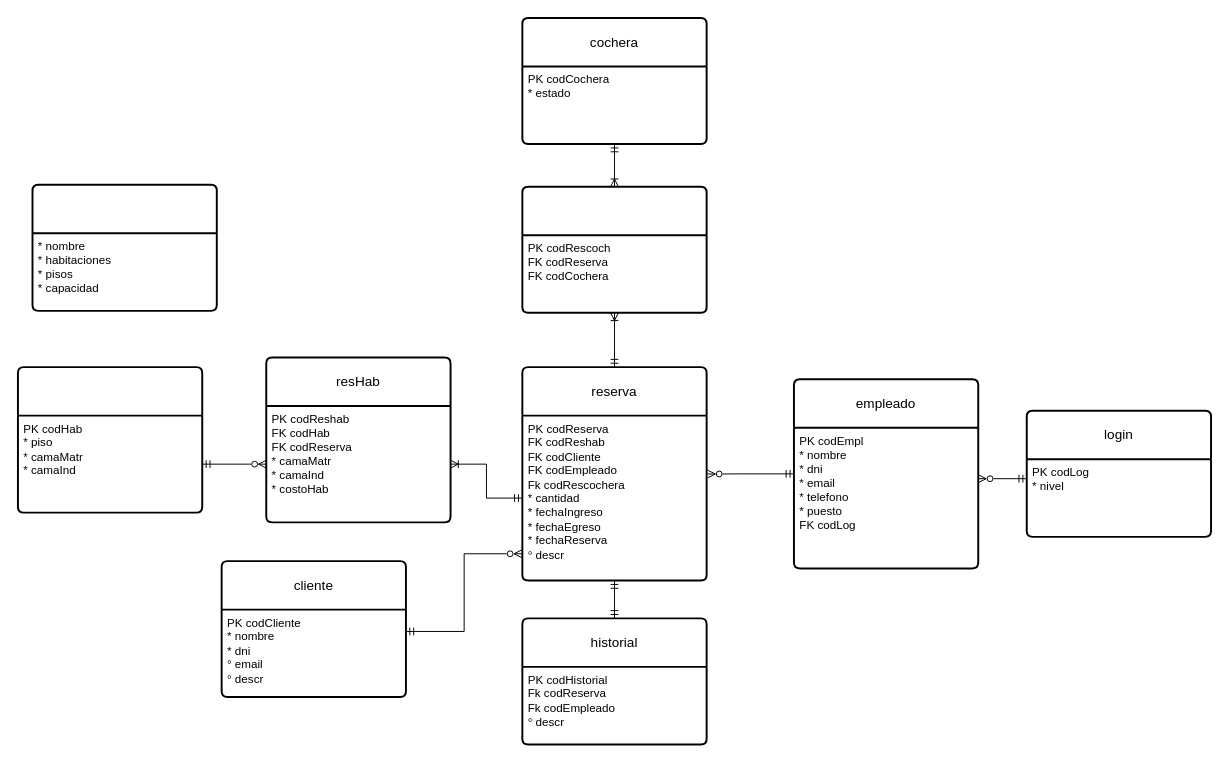
Some shapes in this 1228 by 761 pixel diagram are drawn without their labels. The shapes that lost their labels are listed below. From the top down, each one's box as (x1, y1, x2, y2) in pixels, then its label:
(31, 183, 217, 311): hotel
(521, 185, 707, 313): resCochera
(16, 366, 203, 513): habitacion
